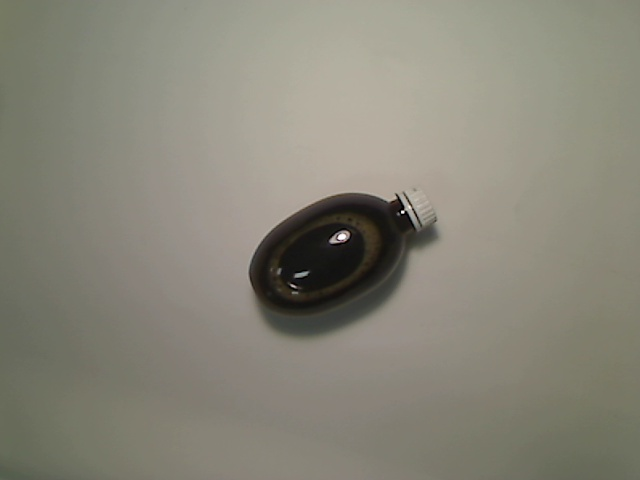plast_bottle: (248, 186, 438, 318)
